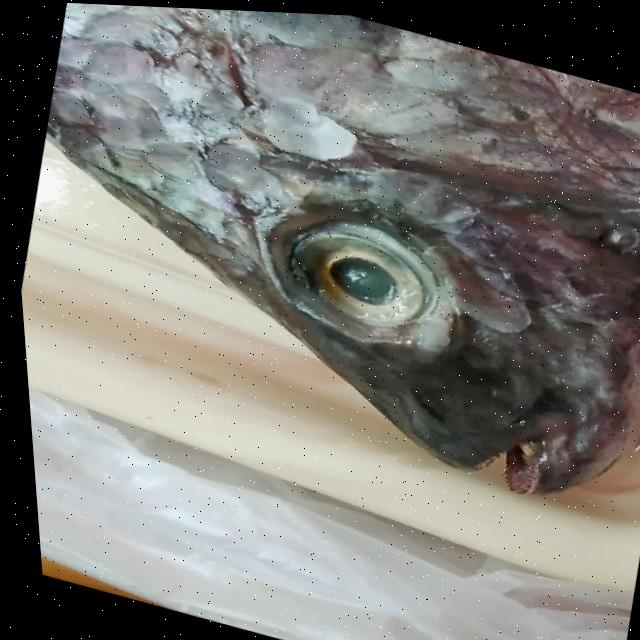Non-Fresh: (48, 2, 640, 259), (233, 166, 478, 365)
